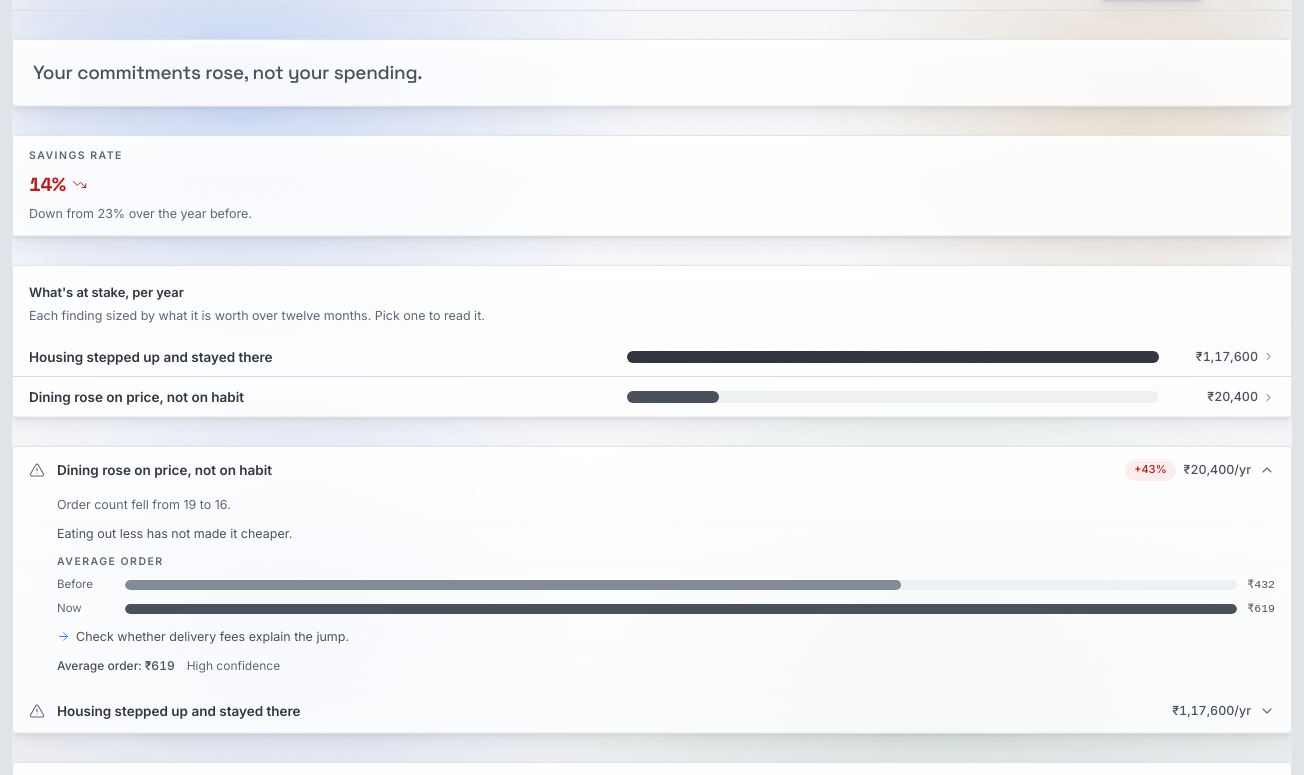
Test: InsightsRunView › ranks findings by what each is worth per year and opens the one picked
Click the button with aria-label "a year".
click(652, 357)  # box [13, 337, 1291, 377]
(page scrolled)
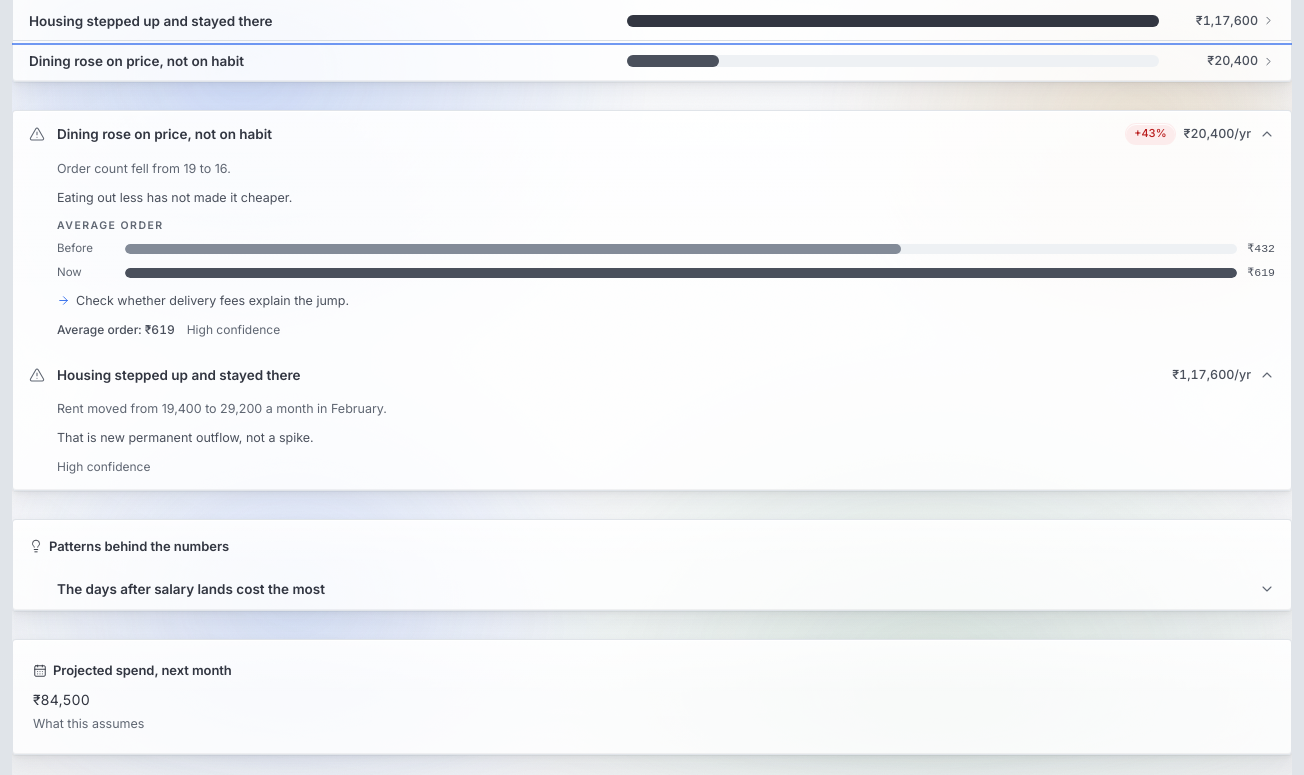
Check: the text "That is new permanent outflow, not a spike." is shown, box [57, 430, 314, 445]
